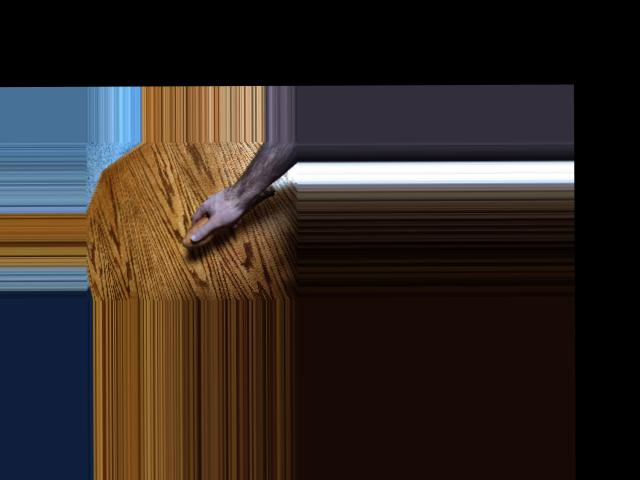sweet_potato: (181, 184, 277, 247)
